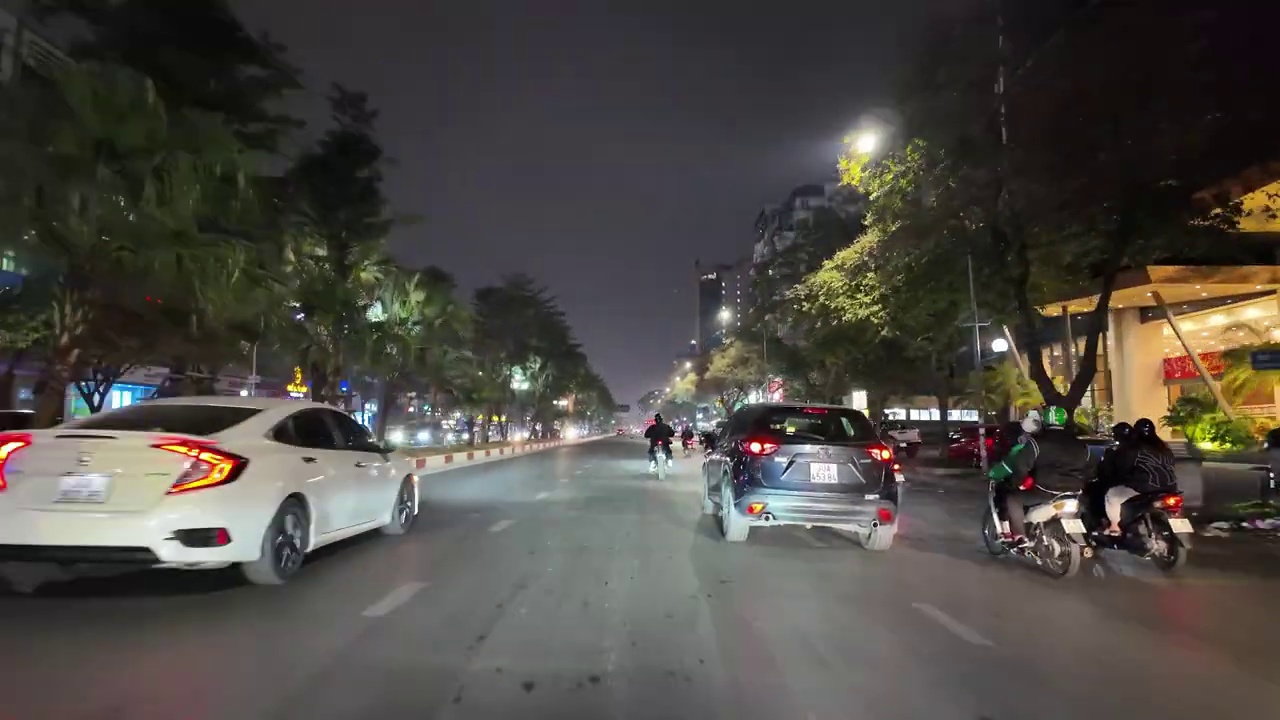acesa: (841, 124, 883, 179), (844, 125, 881, 159), (711, 303, 737, 329)
